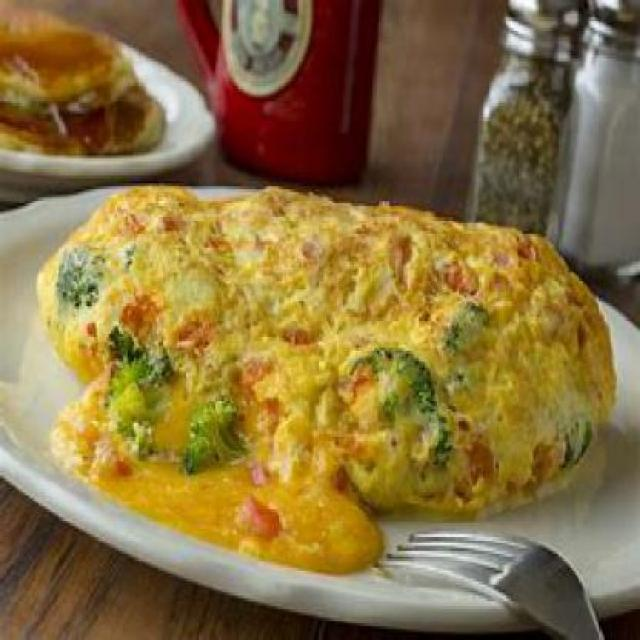omelette: (41, 195, 617, 559)
pancakes: (2, 8, 178, 164)
